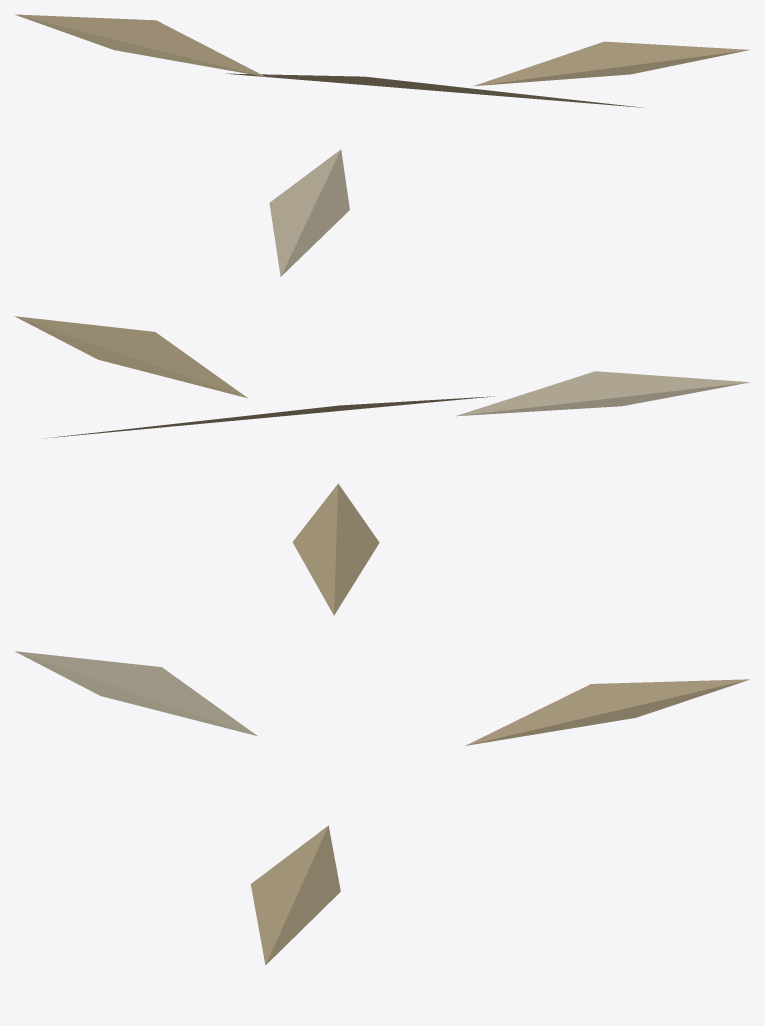
File: guan.dujuan@withered__bloom.glb
3 renders of one model, top to bottom at view 1: azimuth 30°, elevation 25°; view 2: azimuth 150°, elevation 25°; view 3: azimuth 270°, elevation 25°, orthographic. The views are drawn at different scales.
Parts seen in each view (by area): view 1: guan.dujuan@withered__bloom; view 2: guan.dujuan@withered__bloom; view 3: guan.dujuan@withered__bloom.
Part boxes in pixels (left/top/right/bottom): guan.dujuan@withered__bloom: left=14, top=14, right=749, bottom=276; guan.dujuan@withered__bloom: left=14, top=316, right=749, bottom=615; guan.dujuan@withered__bloom: left=14, top=651, right=749, bottom=965.
Bounding box in the file's own units: 0.5559 × 0.084 × 0.4973.
